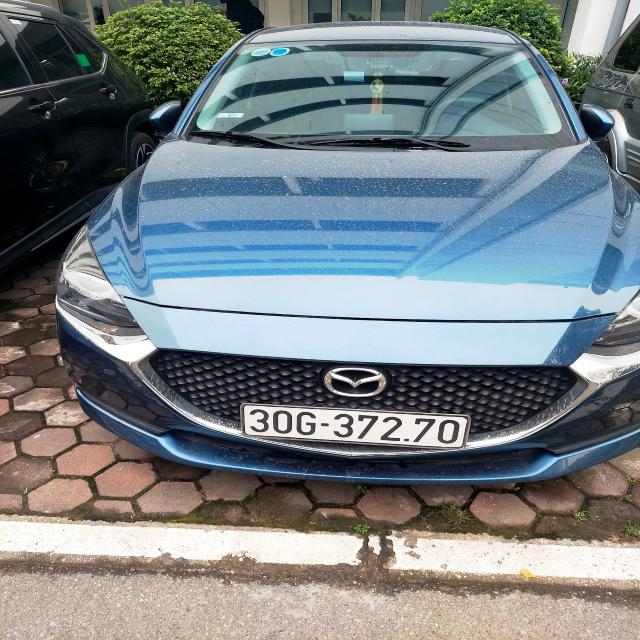license_plate: (241, 406, 472, 450)
